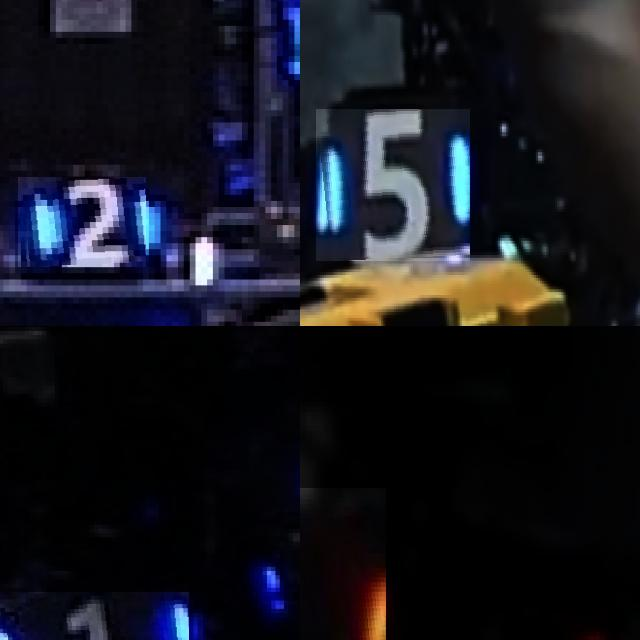B1: (0, 591, 188, 640)
B2: (18, 177, 146, 267)
B5: (316, 109, 470, 261)
R1: (300, 488, 386, 640)
